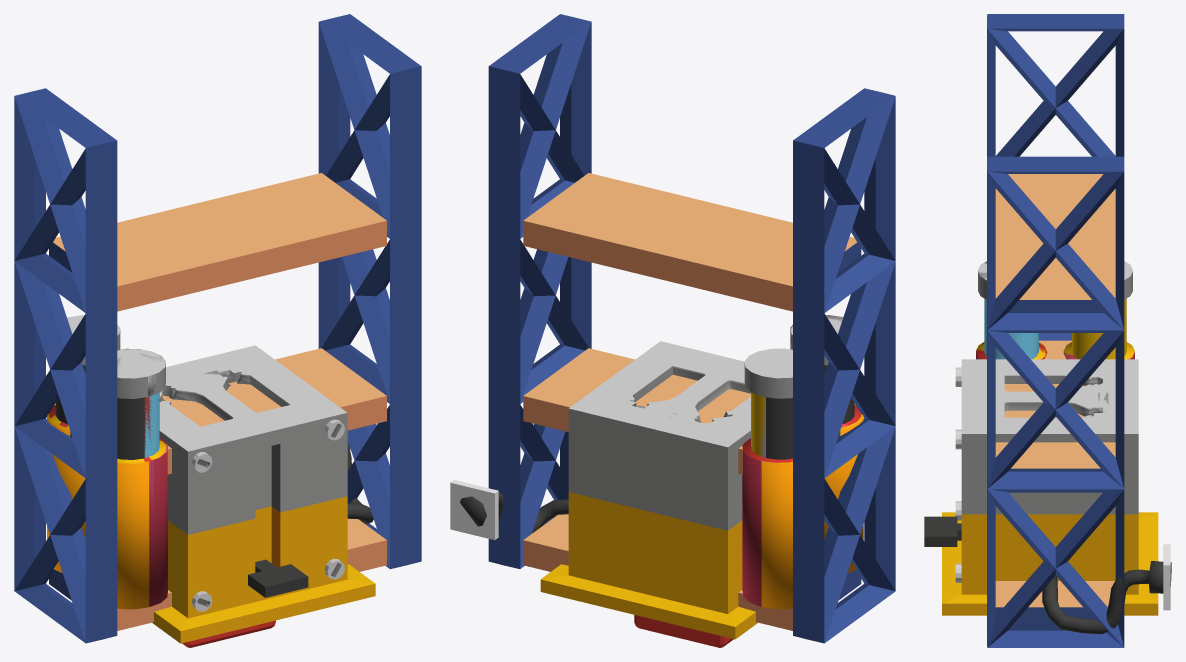
File: My_Garage_Asset_v3.fbx
3 views of the same model, side by side, from view 1: azimuth 30°, elevation 25°; view 2: azimuth 150°, elevation 25°; view 3: azimuth 270°, elevation 25° (orthographic). The views are drawn at different scales.
Visible parts, largest first — view 1: Shelf, Tire_Machine, Gasoline_Machine, Detergent_Machine, Tire_Press_1, Gas_Press_1, Tire_Machine_Lever, Gas_Machine_Lever, Gas_Can, Detergent_Press_1; view 2: Shelf, Tire_Machine, Gasoline_Machine, Detergent_Machine, Tire_Press_2,, Gas_Press_2, Gas_Can; view 3: Shelf, Tire_Machine, Detergent_Machine, Gasoline_Machine, Gas_Press_1, Gas_Press_2, Tire_Machine_Lever.
Part boxes in pixels (<box>): Shelf: <box>14,14,421,643</box>; Tire_Machine: <box>47,345,375,643</box>; Gasoline_Machine: <box>49,346,346,609</box>; Detergent_Machine: <box>149,347,346,610</box>; Tire_Press_1: <box>117,349,163,459</box>; Gas_Press_1: <box>117,349,165,457</box>; Tire_Machine_Lever: <box>249,559,308,596</box>; Gas_Machine_Lever: <box>248,560,307,597</box>; Gas_Can: <box>182,620,275,647</box>; Detergent_Press_1: <box>117,348,165,455</box>; Shelf: <box>488,14,895,643</box>; Tire_Machine: <box>450,341,863,639</box>; Gasoline_Machine: <box>460,341,861,606</box>; Detergent_Machine: <box>460,341,849,527</box>; Tire_Press_2,: <box>746,349,792,459</box>; Gas_Press_2: <box>744,349,792,456</box>; Gas_Can: <box>634,615,733,647</box>; Shelf: <box>987,14,1124,647</box>; Tire_Machine: <box>942,342,1171,634</box>; Detergent_Machine: <box>961,343,1171,586</box>; Gasoline_Machine: <box>961,343,1171,580</box>; Gas_Press_1: <box>978,266,1038,359</box>; Gas_Press_2: <box>1072,265,1132,359</box>; Tire_Machine_Lever: <box>924,517,961,546</box>.
Size of the model in its own units: 4.44 by 6.65 by 2.83.
